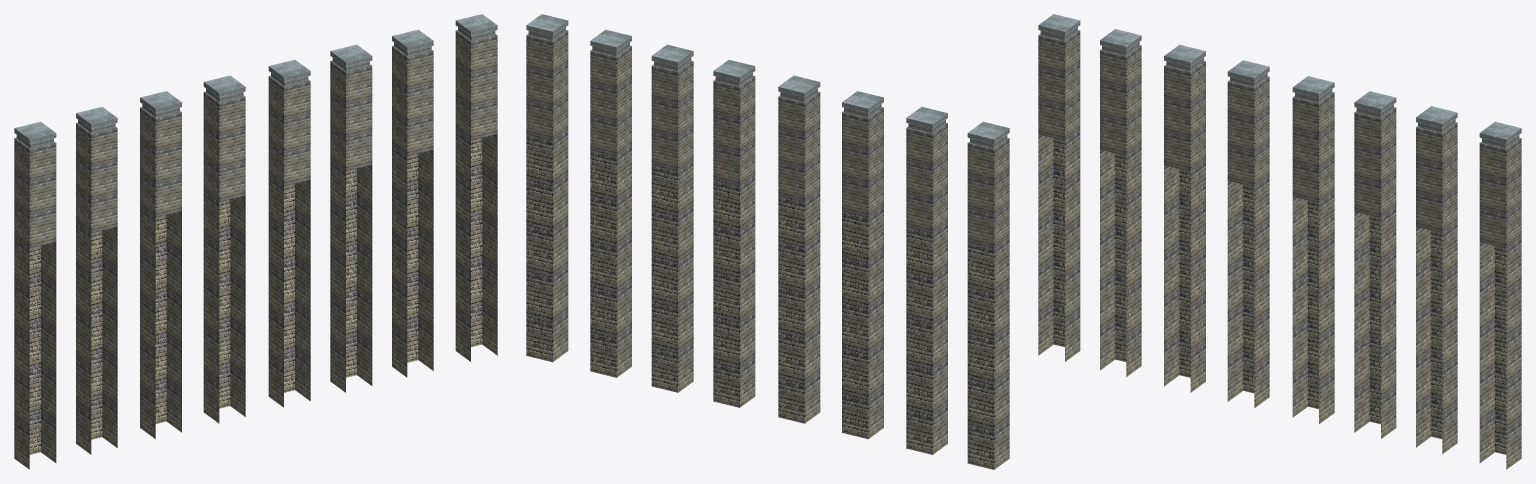
Rendered from shixiangtaizi.FBX.
3 views of the same model, side by side, from view 1: azimuth 30°, elevation 25°; view 2: azimuth 150°, elevation 25°; view 3: azimuth 330°, elevation 25° (orthographic).
Visible parts, largest first — view 1: Box02; view 2: Box02; view 3: Box02.
Part boxes in pixels (x1,y1,x2,y2): Box02: (14,14,497,469); Box02: (526,14,1009,469); Box02: (1038,14,1521,469).
Size of the model in its own units: 1918 by 1295 by 110.
